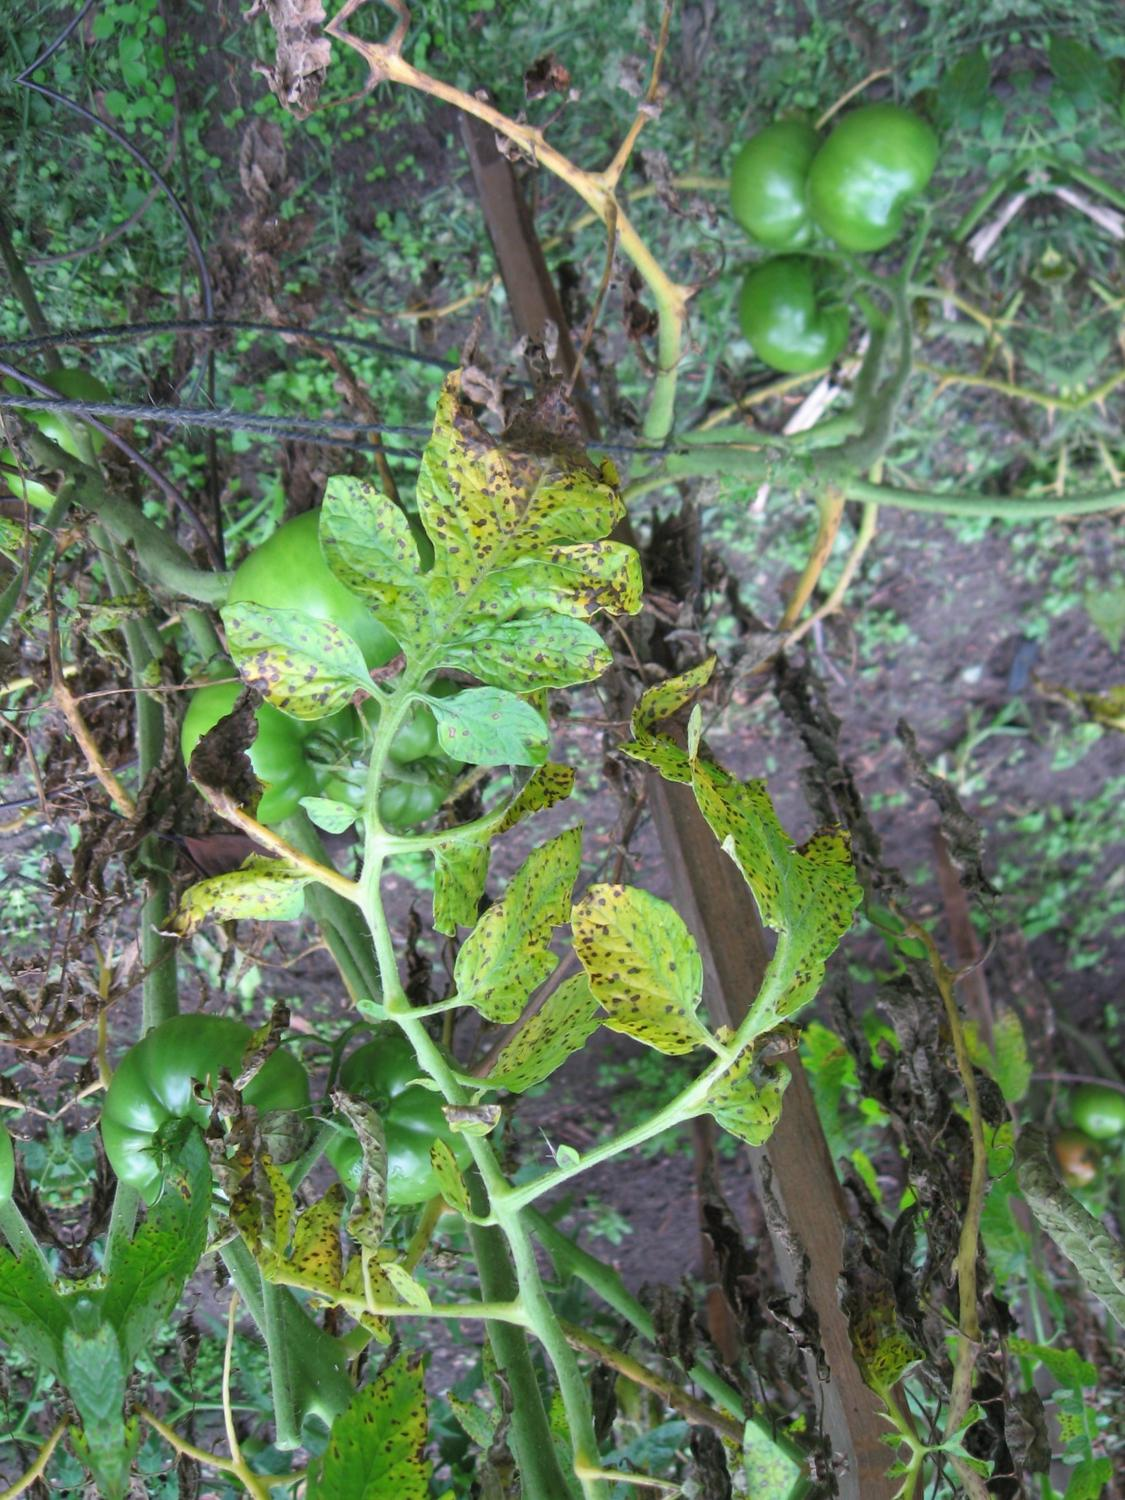Tomato Septoria leaf spot: (314, 353, 678, 743), (612, 676, 925, 1086), (412, 803, 618, 1042), (559, 863, 742, 1079), (198, 575, 377, 732), (142, 849, 336, 958)
